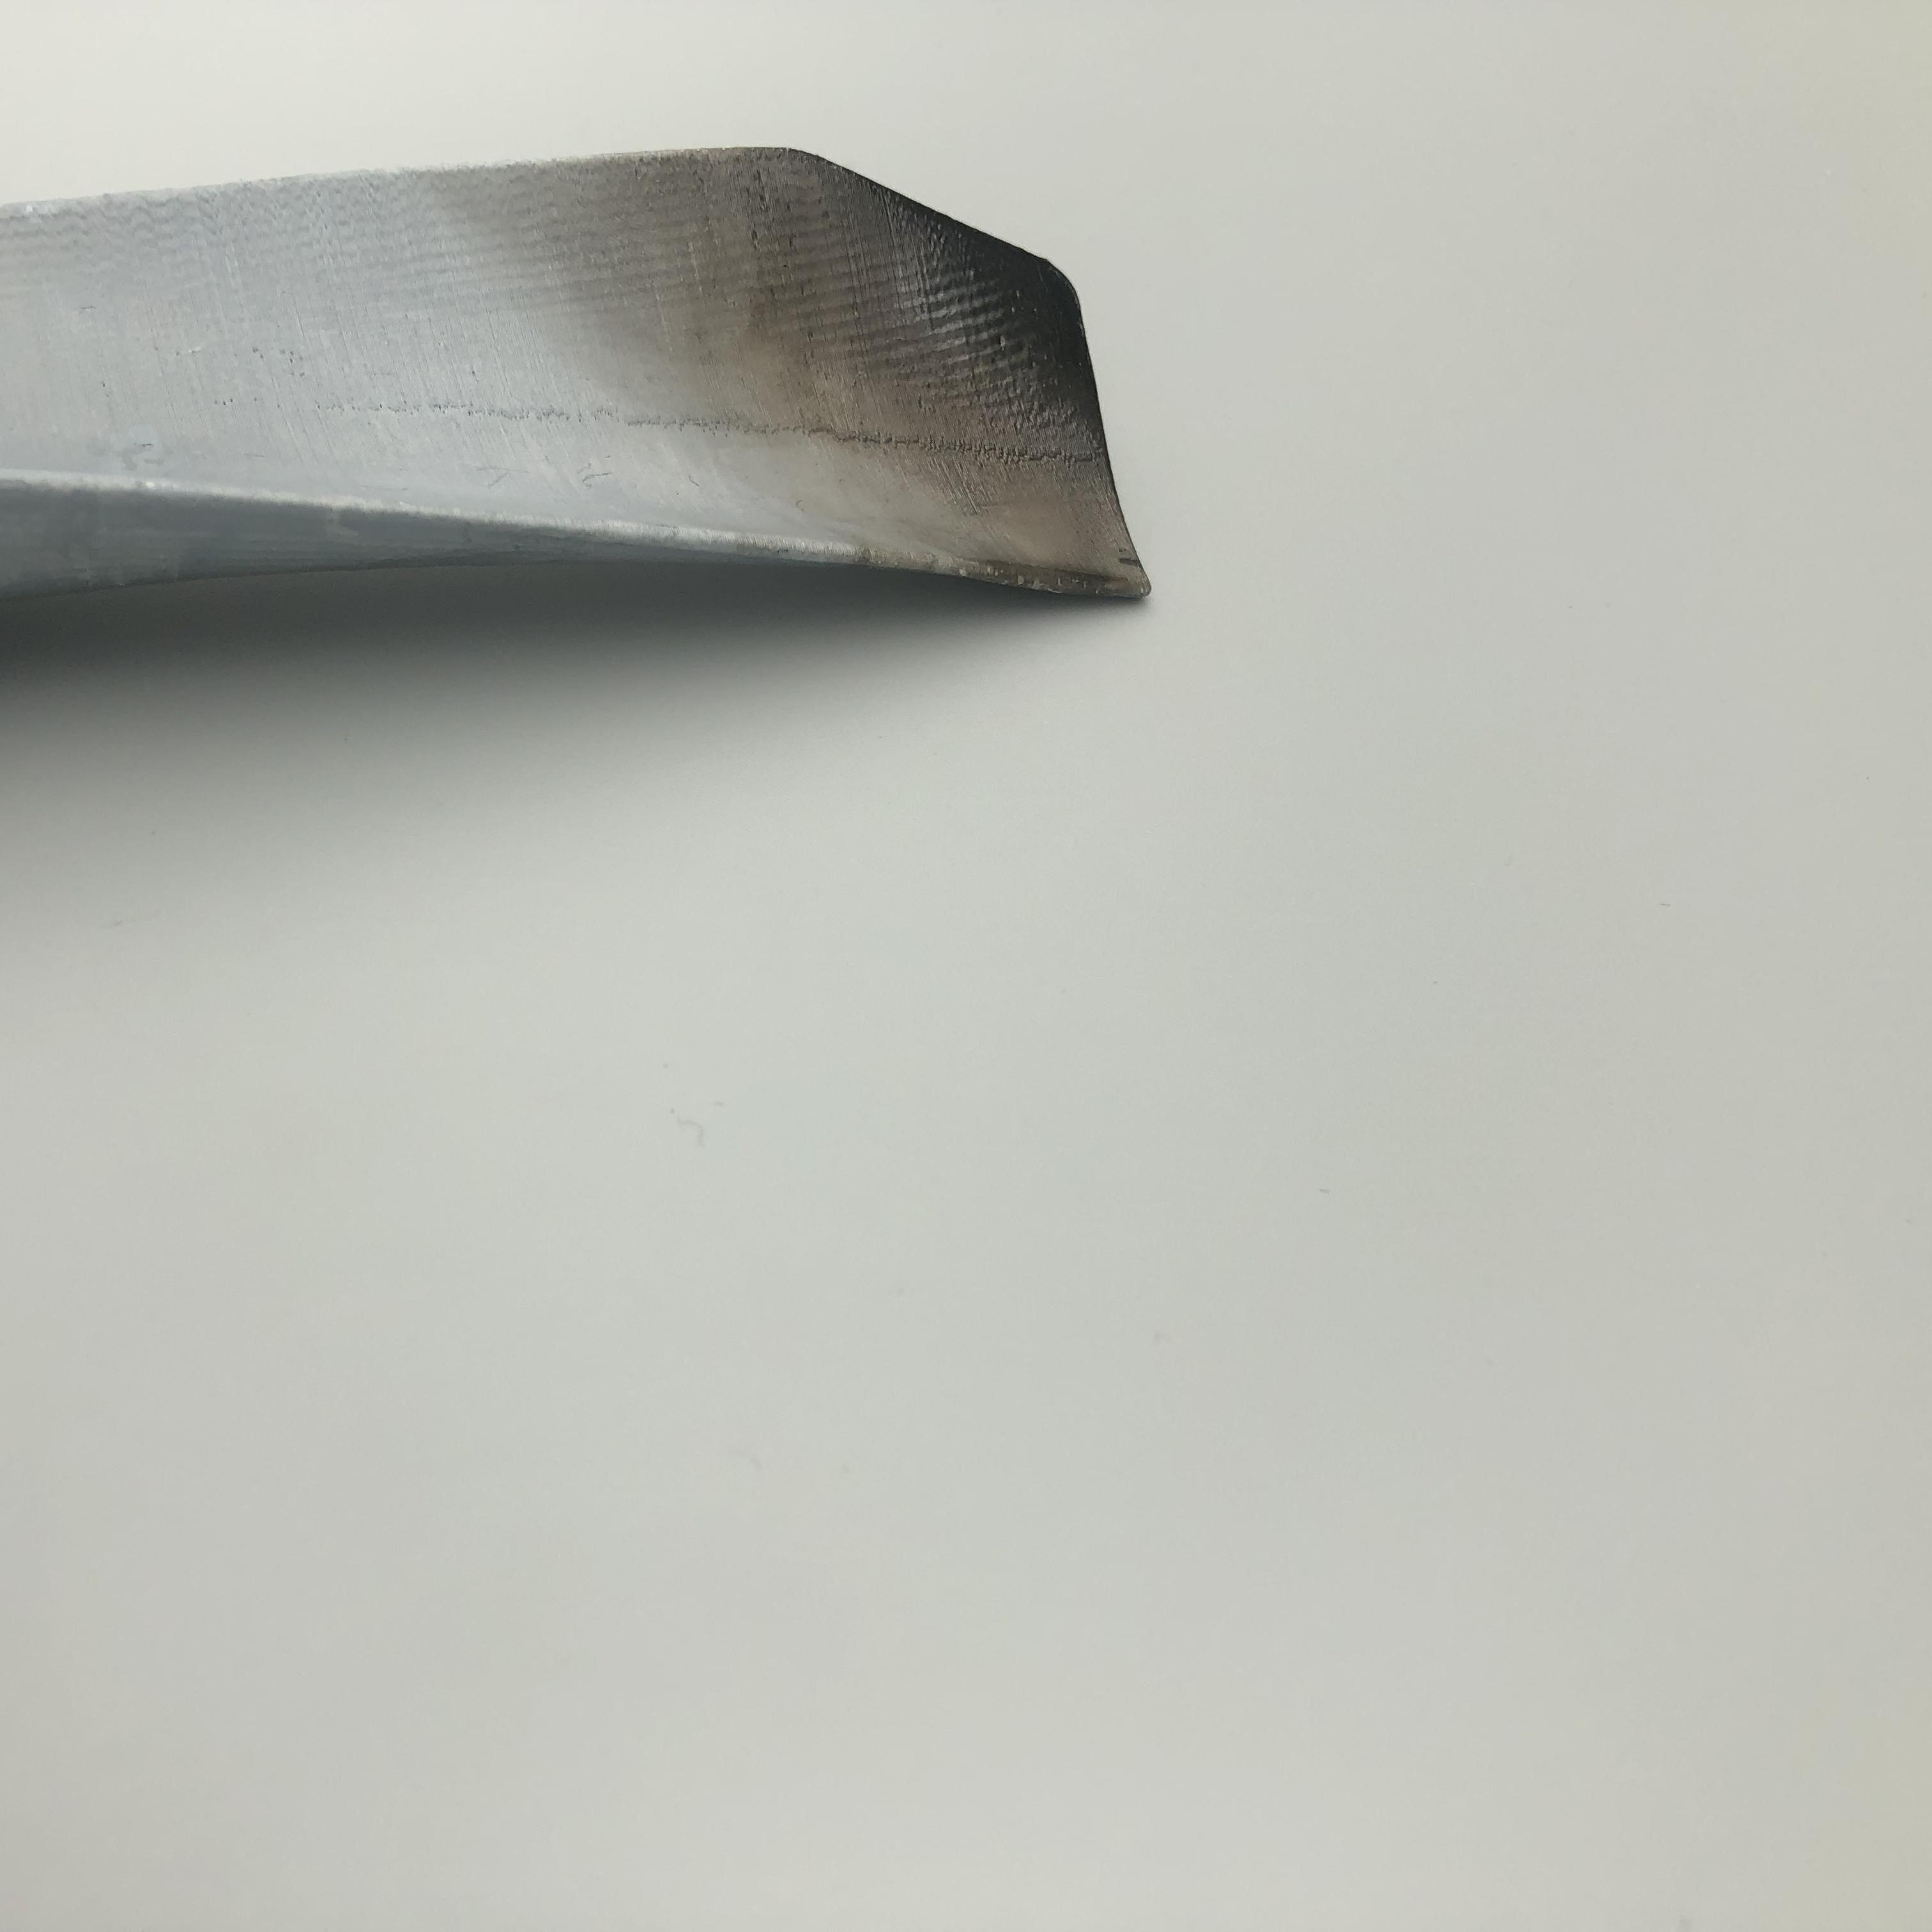ablation: (651, 166, 1138, 563)
